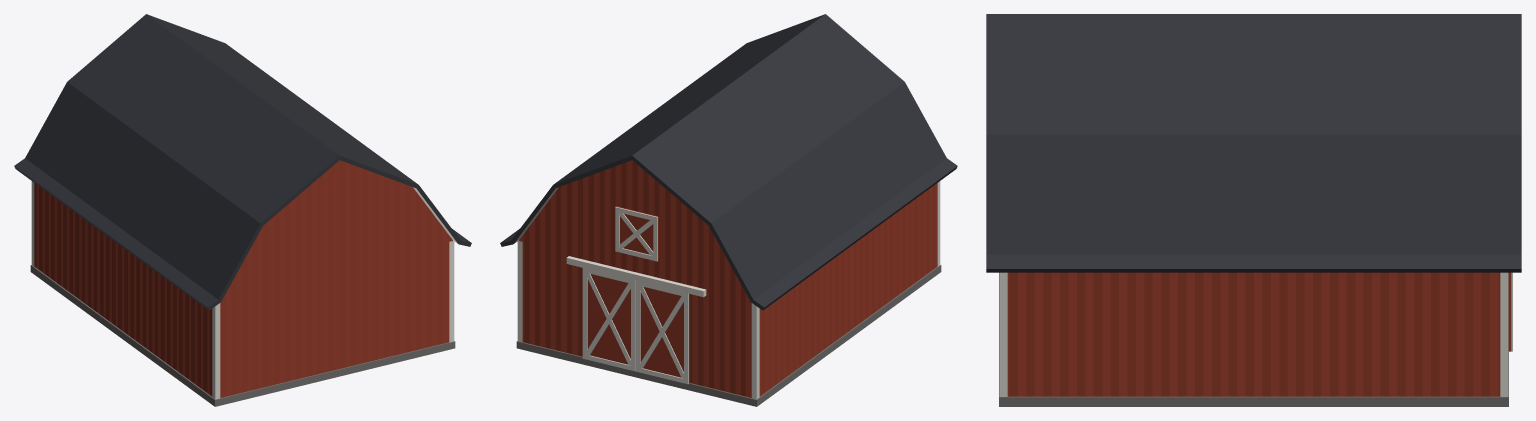
Rendered from barn.glb.
3 renders of one model, left to right at view 1: azimuth 30°, elevation 25°; view 2: azimuth 150°, elevation 25°; view 3: azimuth 270°, elevation 25°, orthographic. The views are drawn at different scales.
Visible parts, largest first — view 1: Barn; view 2: Barn; view 3: Barn.
Part boxes in pixels (x1,y1,x2,y2): Barn: (14, 14, 471, 406); Barn: (500, 14, 957, 406); Barn: (986, 14, 1521, 406).
Size of the model in its own units: 10.01 by 8.16 by 12.7.
